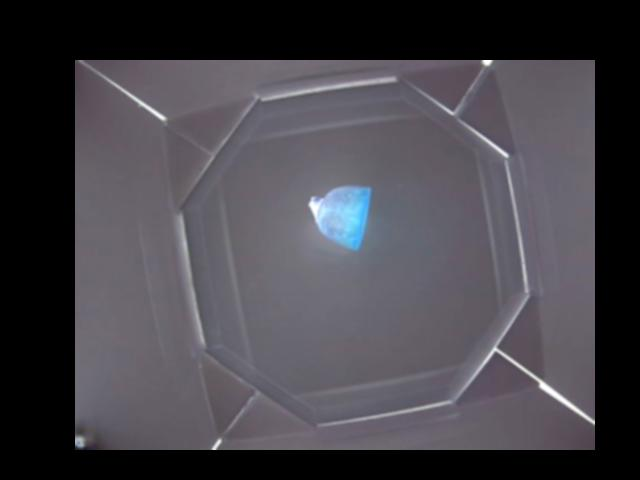Carrot: (308, 185, 373, 250)
